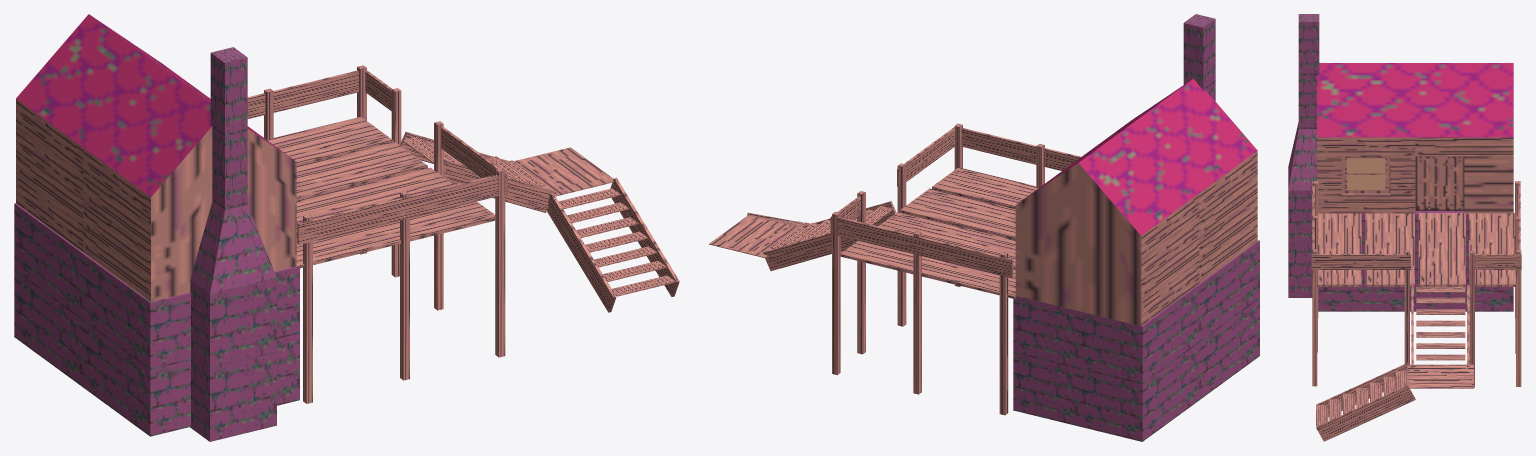
File: House_1.obj
The picture shows the model from 3 angles, left to right: view 1: azimuth 30°, elevation 25°; view 2: azimuth 150°, elevation 25°; view 3: azimuth 270°, elevation 25°; orthographic projection. The views are drawn at different scales.
Visible parts, largest first — view 1: House_1.001_Cube.077; view 2: House_1.001_Cube.077; view 3: House_1.001_Cube.077.
Part boxes in pixels (x1,y1,x2,y2): House_1.001_Cube.077: (14,14,679,441); House_1.001_Cube.077: (709,14,1259,441); House_1.001_Cube.077: (1288,14,1521,441).
Bounding box in the file's own units: 10.49 × 7 × 5.49.
